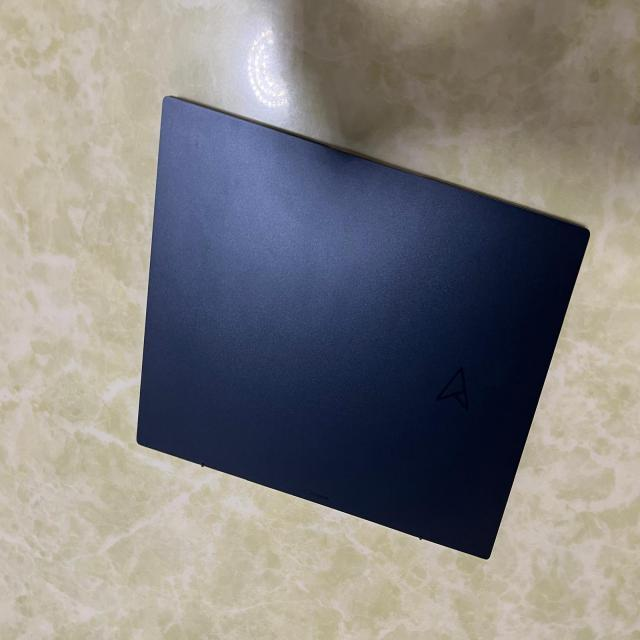laptop: (135, 94, 590, 560)
